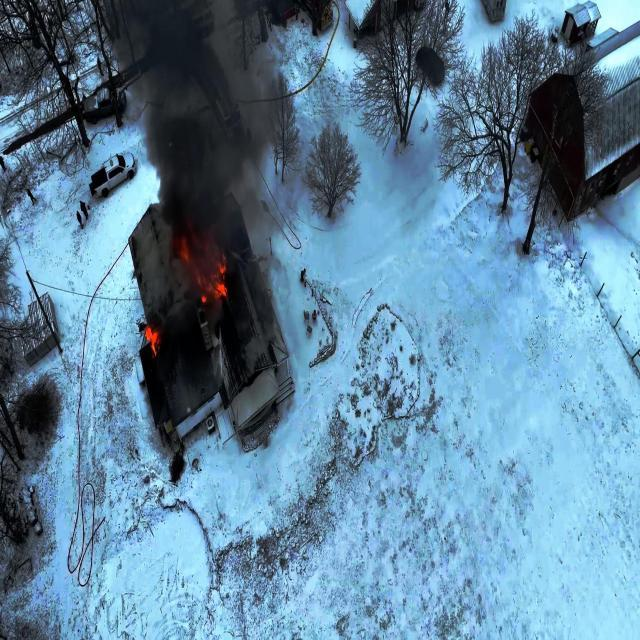Fire: (178, 215, 226, 304), (142, 323, 166, 352)
Smoke: (113, 1, 248, 237)
